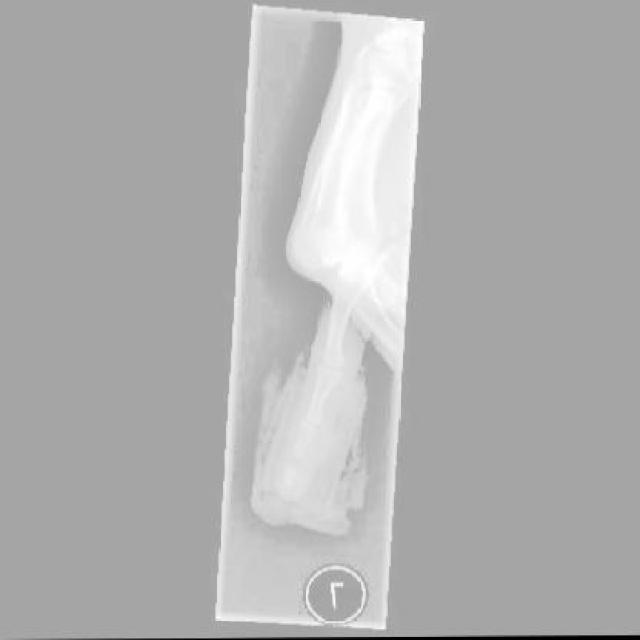Fracture: (282, 449, 302, 476)
